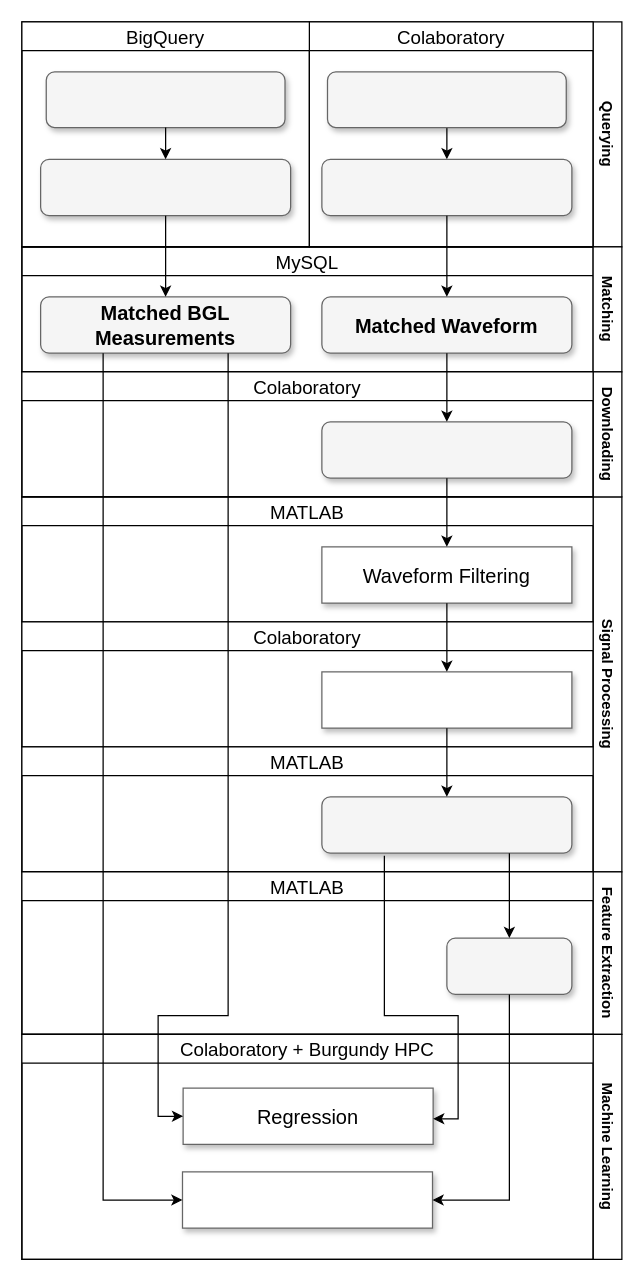
Image size: 644x1281. Some labels were removed from this diagram. The centre of each missing label's shape, as x and y in pixels:
"Baseline Correction" goes at (447,701).
"Classification" goes at (308,1201).
"Features" goes at (510,967).
"Invasive BGL Measurements" goes at (166,188).
"MIMIC III Clinical Database" goes at (166,101).
"MIMIC III Waveform Matched Subset Database" goes at (447,101).
"Processed Waveform" goes at (447,826).
"Raw Waveform Data" goes at (447,451).
"Waveform Segments with 'PLETH' data" goes at (447,188).
